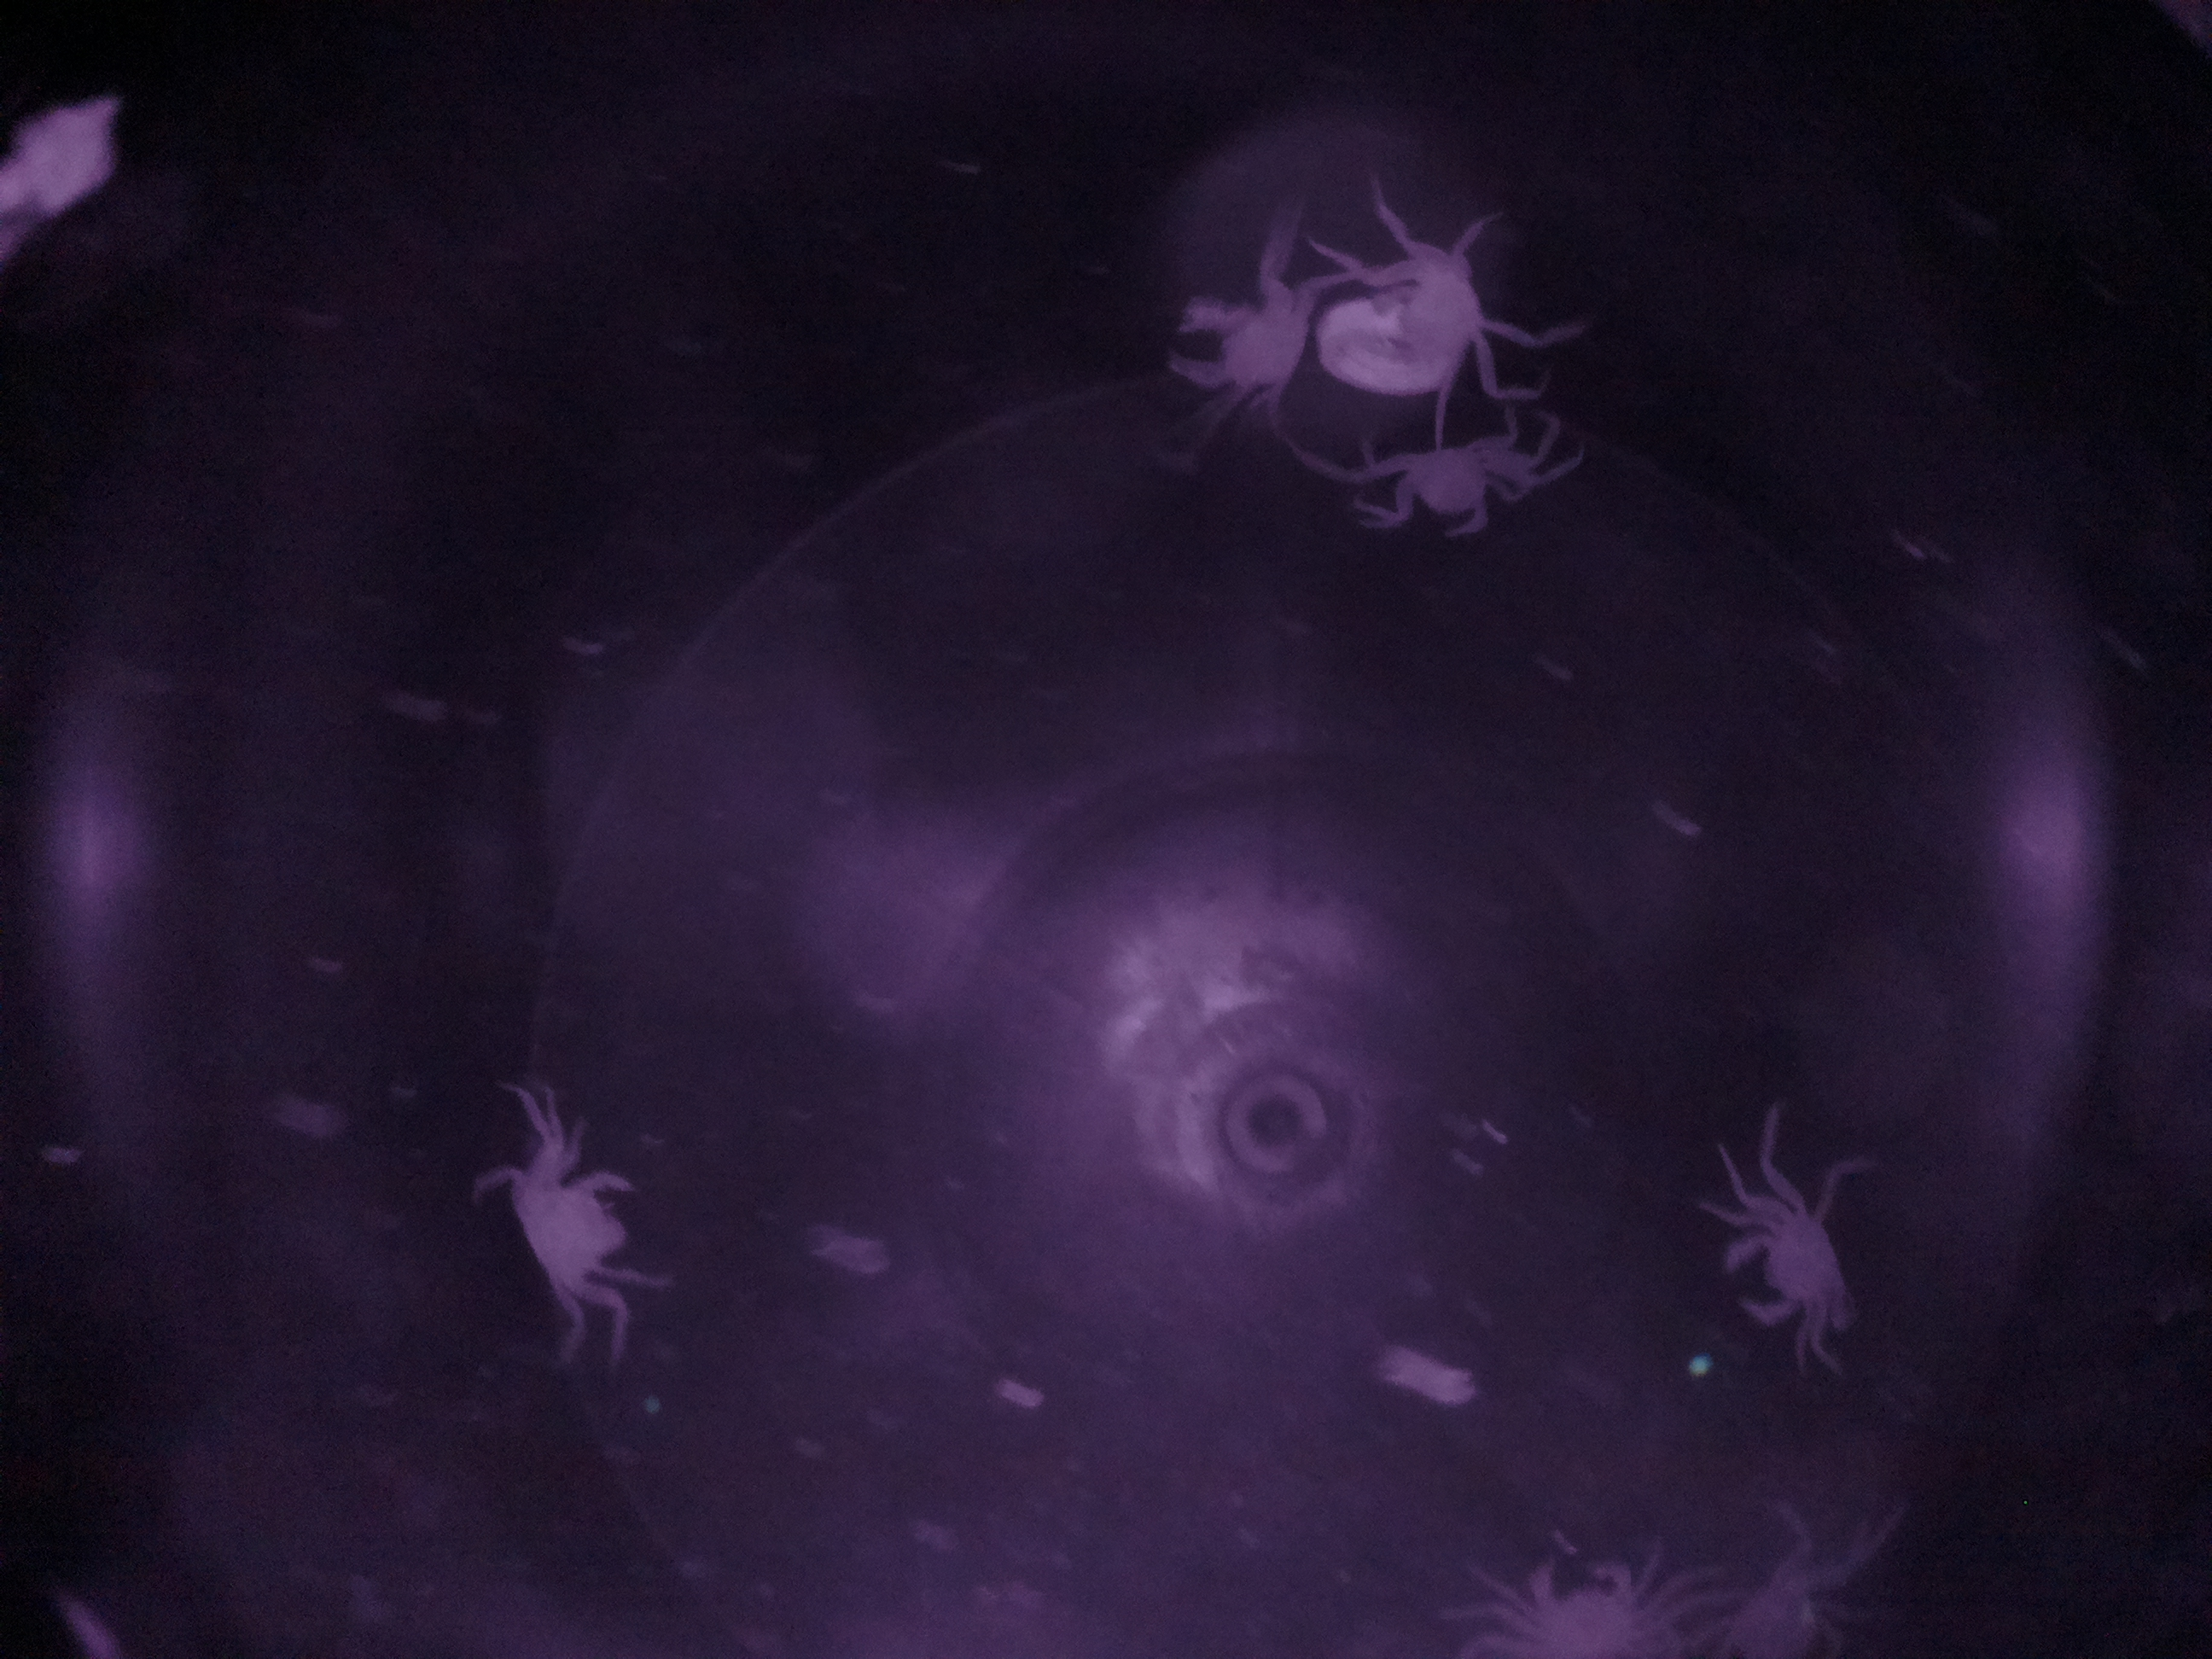Crab: (1707, 1182, 1879, 1366)
